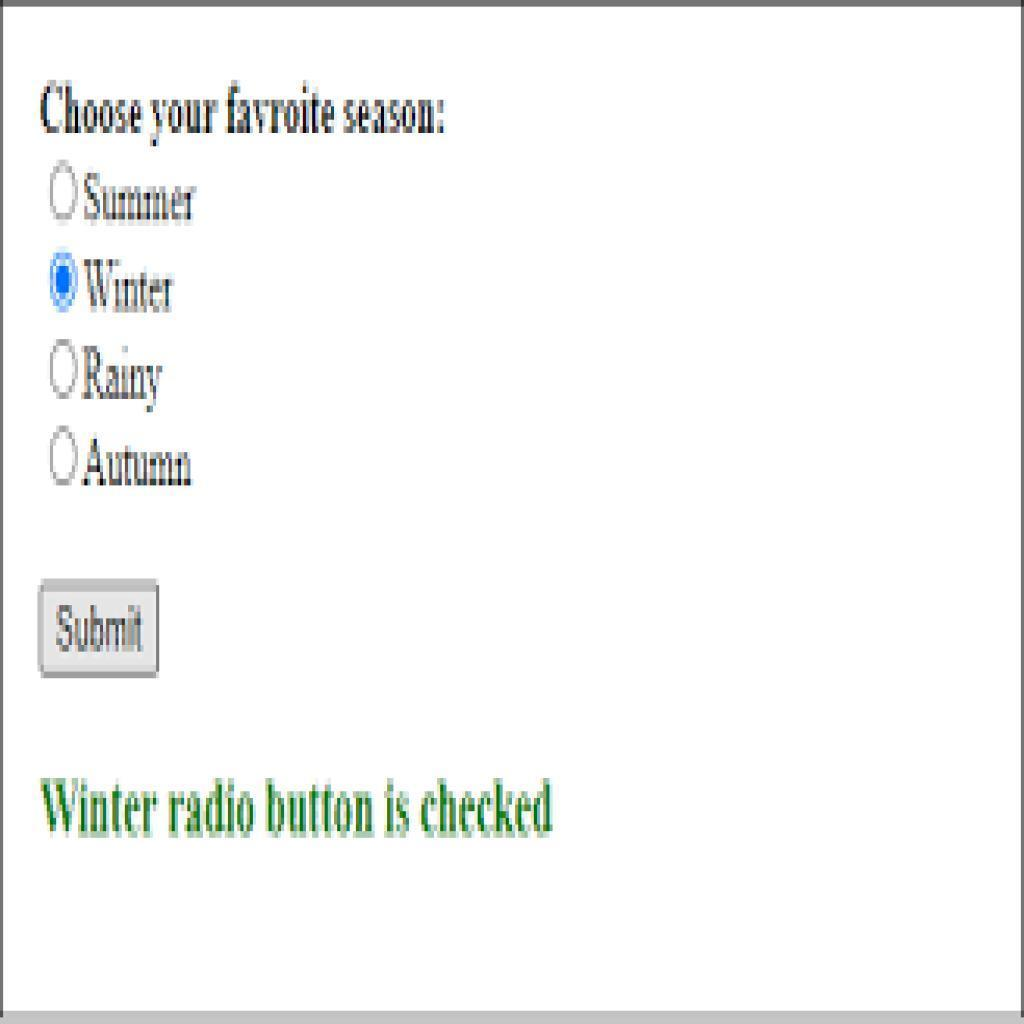button: (35, 579, 163, 679)
radio: (47, 422, 81, 491), (48, 336, 81, 403), (50, 155, 79, 229), (50, 250, 78, 317)
